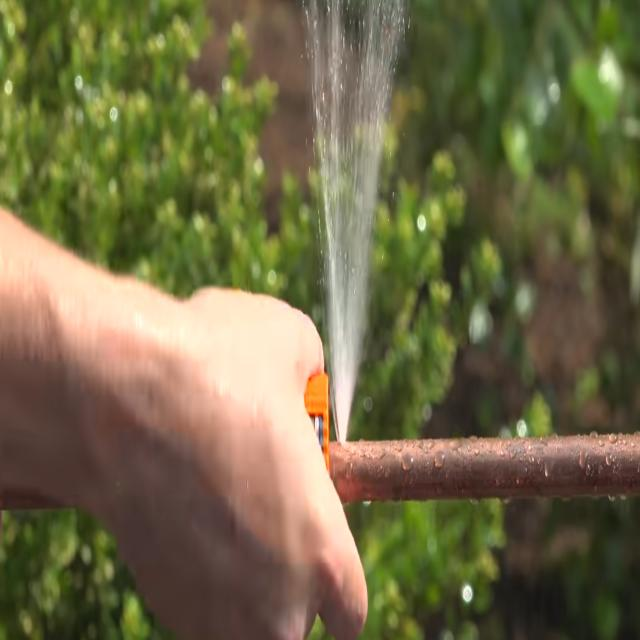leak: (306, 0, 404, 442)
